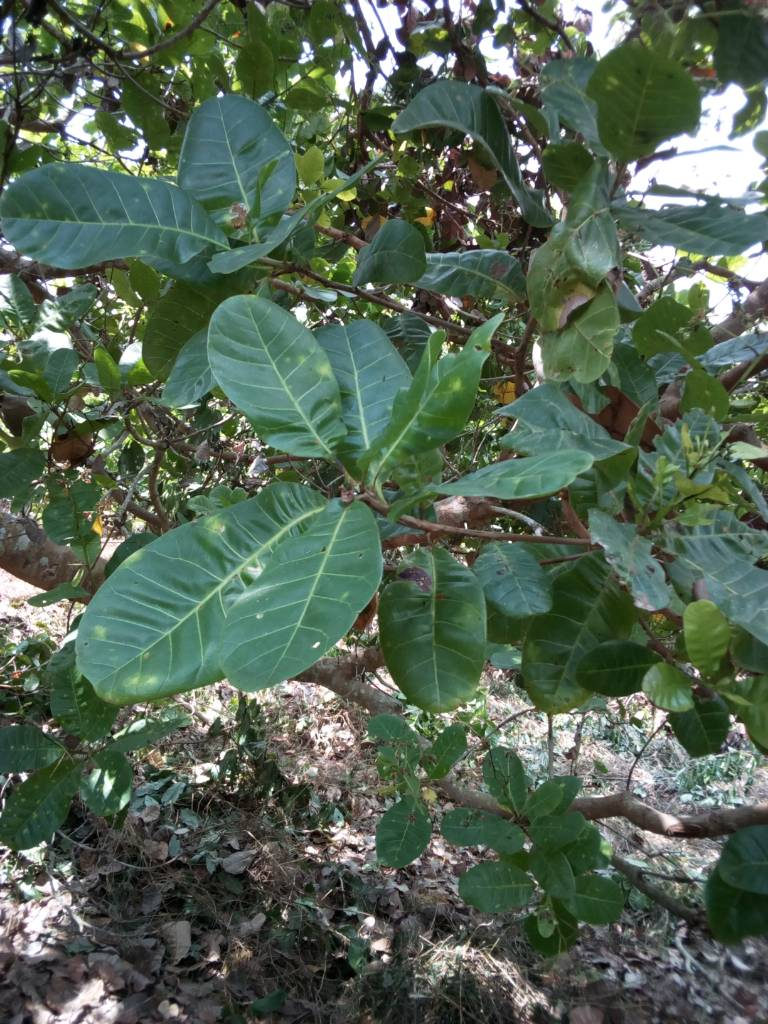Helopeltis anacardii: (82, 478, 324, 697), (365, 319, 496, 497), (391, 541, 491, 703), (588, 511, 674, 611), (408, 253, 525, 292)
